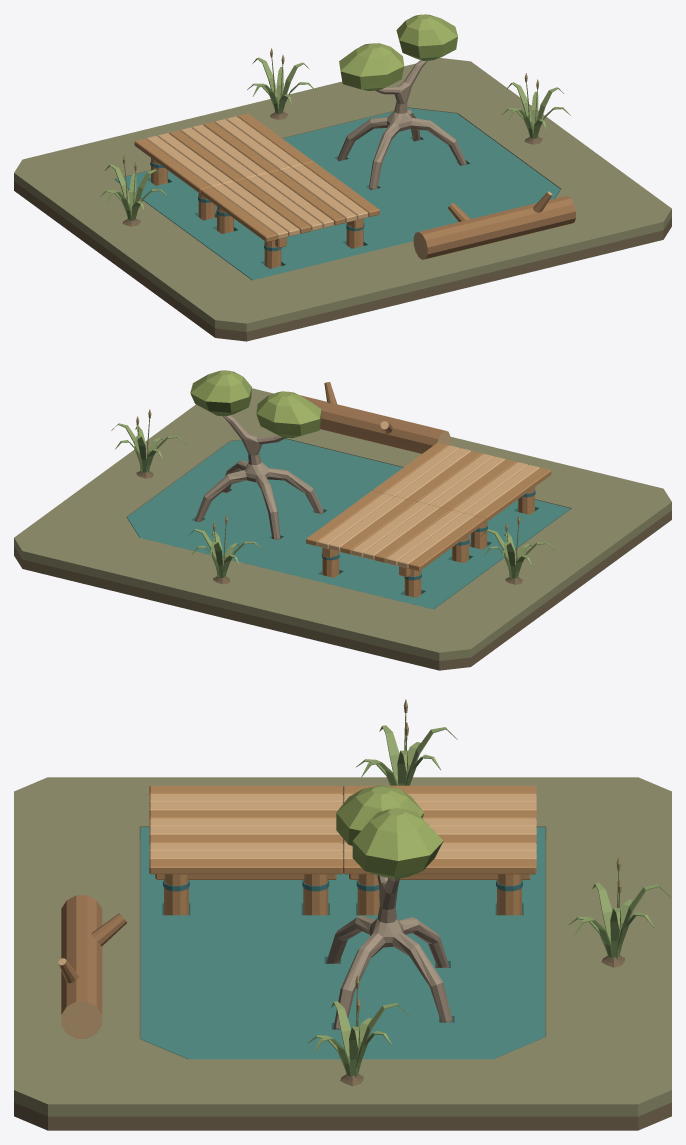
The picture shows the model from 3 angles, top to bottom: view 1: azimuth 30°, elevation 25°; view 2: azimuth 150°, elevation 25°; view 3: azimuth 270°, elevation 25°; orthographic projection. The views are drawn at different scales.
Visible parts, largest first — view 1: SceneEnvironment_DryBank, SceneEnvironment_ShallowWater, Pier_Entrance__harbor-dock-module-01, Pier_Observation__harbor-dock-module-01, SceneEnvironment_MudBase, FallenLog_Foreground__nature-fallen-log-01, Mangrove__Wood_ContinuousPropRootTree, Mangrove__Crown_LeftLow, Mangrove__Crown_RightHigh, Reed_RearBank__nature-reed-sedge-01, Reed_RightBank__nature-reed-sedge-01, Reed_LeftBank__nature-reed-sedge-01; view 2: SceneEnvironment_DryBank, SceneEnvironment_ShallowWater, Pier_Observation__harbor-dock-module-01, Pier_Entrance__harbor-dock-module-01, SceneEnvironment_MudBase, FallenLog_Foreground__nature-fallen-log-01, Mangrove__Wood_ContinuousPropRootTree, Mangrove__Crown_LeftLow, Mangrove__Crown_RightHigh, Reed_LeftBank__nature-reed-sedge-01, Reed_RightBank__nature-reed-sedge-01, Reed_RearBank__nature-reed-sedge-01; view 3: SceneEnvironment_DryBank, SceneEnvironment_ShallowWater, Pier_Entrance__harbor-dock-module-01, Pier_Observation__harbor-dock-module-01, SceneEnvironment_MudBase, FallenLog_Foreground__nature-fallen-log-01, Mangrove__Wood_ContinuousPropRootTree, Mangrove__Crown_RightHigh, Mangrove__Crown_LeftLow, Reed_RightBank__nature-reed-sedge-01, Reed_RearBank__nature-reed-sedge-01, Reed_LeftBank__nature-reed-sedge-01.
Boxes of the visible parts, box(x1,y1,x2,y2) form: SceneEnvironment_DryBank: box(14, 58, 671, 331); SceneEnvironment_ShallowWater: box(115, 108, 560, 280); Pier_Entrance__harbor-dock-module-01: box(200, 162, 379, 268); Pier_Observation__harbor-dock-module-01: box(134, 113, 313, 220); SceneEnvironment_MudBase: box(14, 181, 671, 341); FallenLog_Foreground__nature-fallen-log-01: box(413, 191, 575, 259); Mangrove__Wood_ContinuousPropRootTree: box(337, 60, 466, 189); Mangrove__Crown_LeftLow: box(339, 43, 404, 90); Mangrove__Crown_RightHigh: box(396, 14, 457, 60); Reed_RearBank__nature-reed-sedge-01: box(247, 48, 315, 119); Reed_RightBank__nature-reed-sedge-01: box(501, 73, 570, 144); Reed_LeftBank__nature-reed-sedge-01: box(100, 155, 168, 226); SceneEnvironment_DryBank: box(14, 388, 671, 660); SceneEnvironment_ShallowWater: box(127, 439, 570, 609); Pier_Observation__harbor-dock-module-01: box(306, 491, 485, 597); Pier_Entrance__harbor-dock-module-01: box(372, 442, 551, 549); SceneEnvironment_MudBase: box(14, 510, 671, 670); FallenLog_Foreground__nature-fallen-log-01: box(300, 382, 450, 453); Mangrove__Wood_ContinuousPropRootTree: box(195, 415, 323, 540); Mangrove__Crown_LeftLow: box(256, 391, 321, 438); Mangrove__Crown_RightHigh: box(190, 370, 251, 416); Reed_LeftBank__nature-reed-sedge-01: box(480, 515, 555, 584); Reed_RightBank__nature-reed-sedge-01: box(111, 409, 186, 478); Reed_RearBank__nature-reed-sedge-01: box(188, 515, 262, 584); SceneEnvironment_DryBank: box(14, 777, 671, 1116); SceneEnvironment_ShallowWater: box(140, 827, 545, 1059); Pier_Entrance__harbor-dock-module-01: box(149, 785, 342, 915); Pier_Observation__harbor-dock-module-01: box(343, 785, 536, 915); SceneEnvironment_MudBase: box(14, 838, 671, 1130); FallenLog_Foreground__nature-fallen-log-01: box(58, 895, 126, 1038); Mangrove__Wood_ContinuousPropRootTree: box(326, 875, 452, 1029); Mangrove__Crown_RightHigh: box(352, 808, 443, 879); Mangrove__Crown_LeftLow: box(336, 785, 424, 845); Reed_RightBank__nature-reed-sedge-01: box(307, 975, 408, 1086); Reed_RearBank__nature-reed-sedge-01: box(568, 857, 670, 967); Reed_LeftBank__nature-reed-sedge-01: box(356, 699, 457, 785).
Bounding box in the file's own units: 8 × 2.58 × 6.8.
